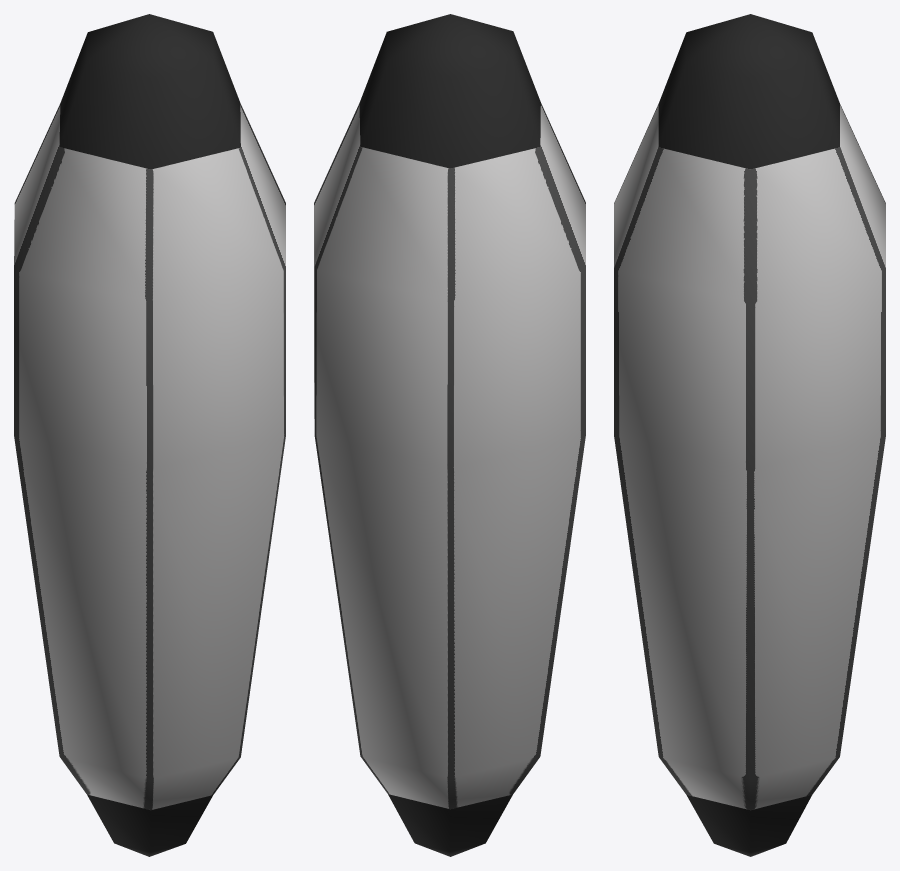
File: LArmUnder.fbx
3 renders of one model, left to right at view 1: azimuth 30°, elevation 25°; view 2: azimuth 150°, elevation 25°; view 3: azimuth 270°, elevation 25°, orthographic.
Parts seen in each view (by area): view 1: Shape_IndexedFaceSet.042, Shape_IndexedFaceSet.041; view 2: Shape_IndexedFaceSet.042, Shape_IndexedFaceSet.041; view 3: Shape_IndexedFaceSet.042, Shape_IndexedFaceSet.041.
Part boxes in pixels (x1=…): Shape_IndexedFaceSet.042: x1=14, y1=103, x2=285, y2=810; Shape_IndexedFaceSet.041: x1=59, y1=14, x2=240, y2=856; Shape_IndexedFaceSet.042: x1=314, y1=103, x2=585, y2=809; Shape_IndexedFaceSet.041: x1=359, y1=14, x2=540, y2=856; Shape_IndexedFaceSet.042: x1=614, y1=104, x2=885, y2=810; Shape_IndexedFaceSet.041: x1=658, y1=14, x2=839, y2=856.
Size of the model in its own units: 0.0911 by 0.2699 by 0.0789.
2 materials, 2 textured.
